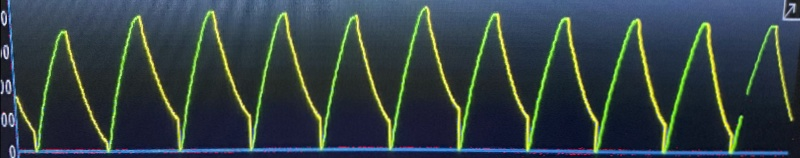leakage: (29, 1, 735, 154)
